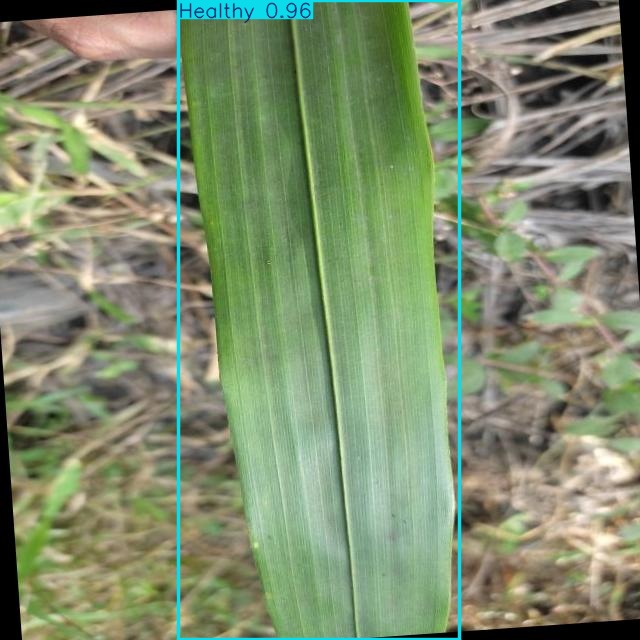Healthy: (179, 0, 459, 640)
